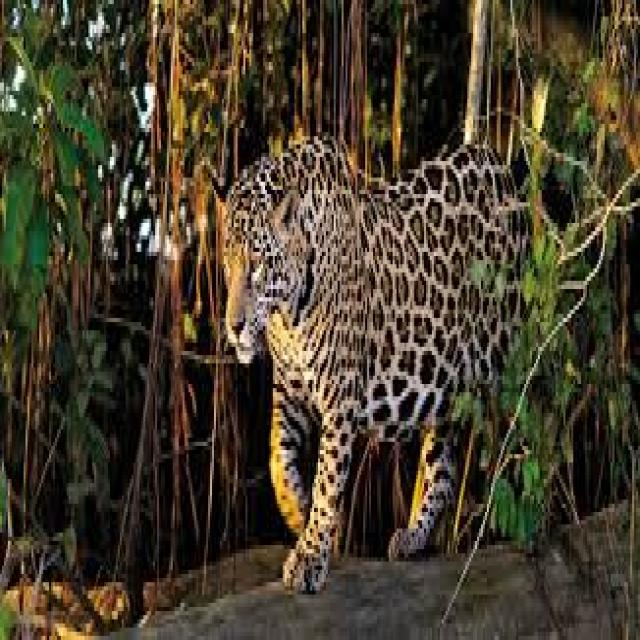Jaguar: (206, 111, 550, 598)
